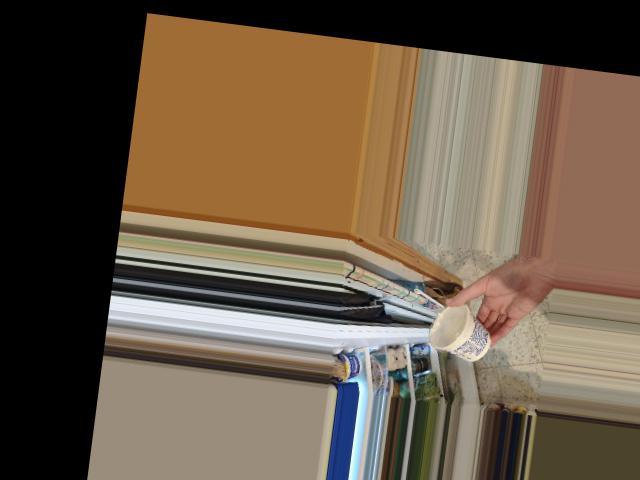cotage: (427, 306, 492, 360)
